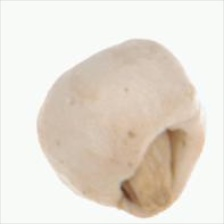L3: (118, 126, 191, 213)
L4: (36, 38, 205, 218)
